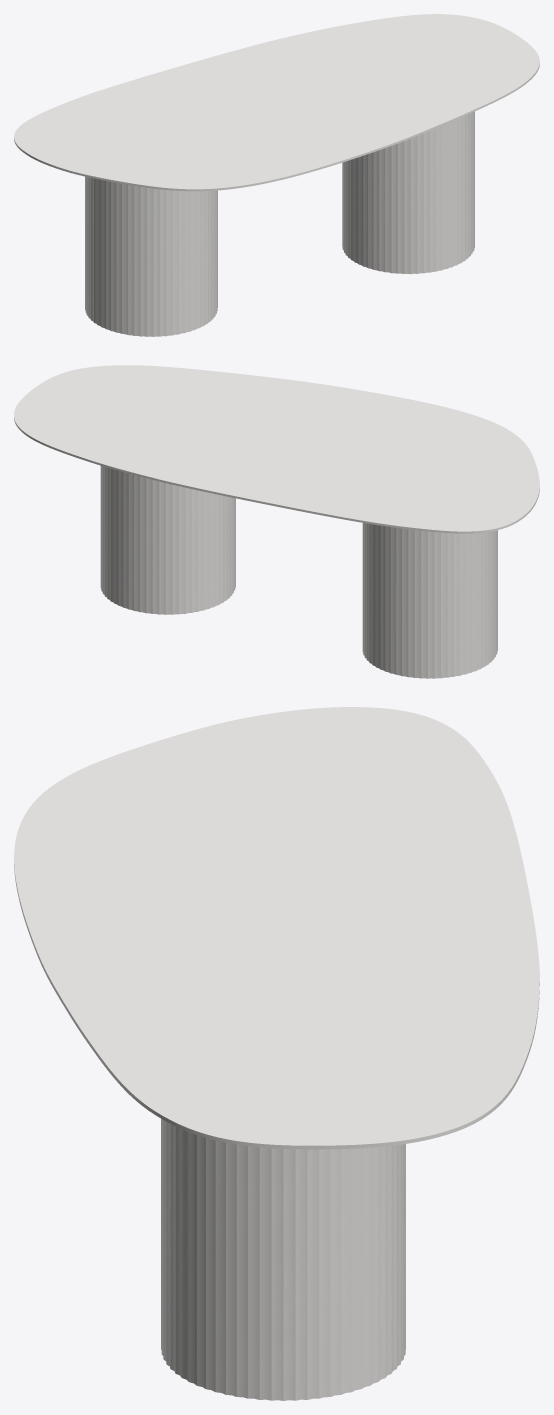
File: purewhite_leaf2_facet_ripplesecond.glb
3 renders of one model, top to bottom at view 1: azimuth 30°, elevation 25°; view 2: azimuth 150°, elevation 25°; view 3: azimuth 270°, elevation 25°, orthographic. The views are drawn at different scales.
Parts seen in each view (by area): view 1: facet_leaf2, ripplesecond; view 2: facet_leaf2, ripplesecond; view 3: facet_leaf2, ripplesecond.
Boxes of the visible parts, box(x1,y1,x2,y2) form: facet_leaf2: box(14, 14, 539, 191); ripplesecond: box(85, 111, 474, 336); facet_leaf2: box(14, 365, 539, 533); ripplesecond: box(100, 466, 497, 678); facet_leaf2: box(14, 707, 539, 1149); ripplesecond: box(161, 1119, 405, 1400).
Size of the model in its own units: 7.5 by 2.5 by 3.8.
1 material, 1 textured.
